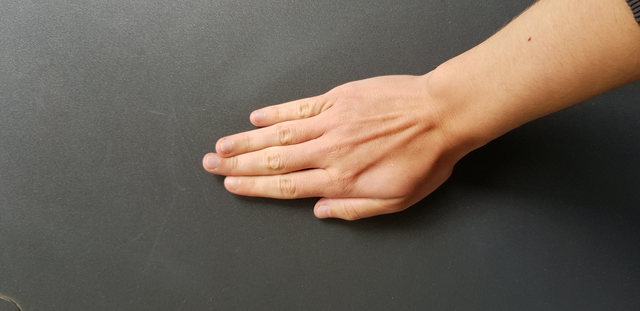Paper: (183, 72, 465, 225)
